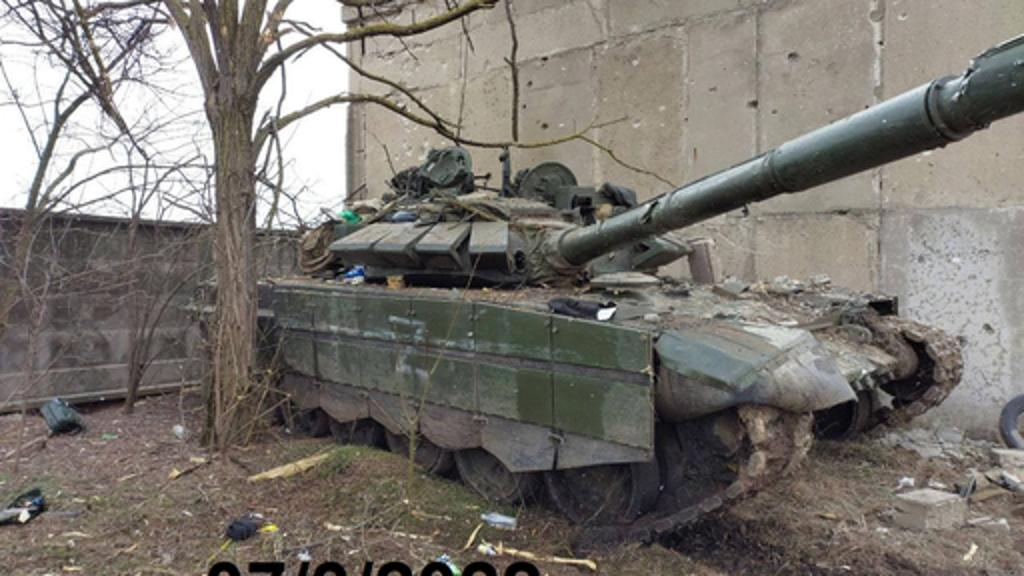TANK: (196, 40, 1020, 554)
